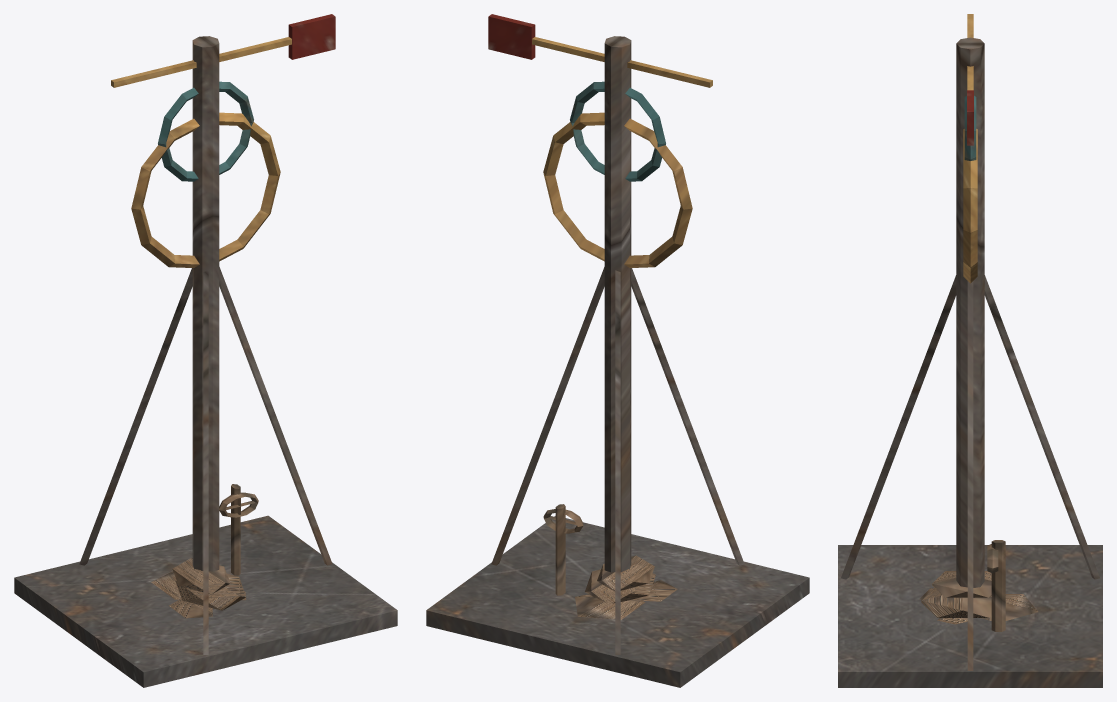
File: dust-devil-warning-mast.glb
3 views of the same model, side by side, from view 1: azimuth 30°, elevation 25°; view 2: azimuth 150°, elevation 25°; view 3: azimuth 270°, elevation 25° (orthographic). The views are drawn at different scales.
Parts seen in each view (by area): view 1: dust-devil-warning-mast; view 2: dust-devil-warning-mast; view 3: dust-devil-warning-mast.
Boxes of the visible parts, bbox=[...] form: dust-devil-warning-mast: bbox=[14, 14, 397, 687]; dust-devil-warning-mast: bbox=[426, 14, 809, 687]; dust-devil-warning-mast: bbox=[838, 14, 1102, 687].
Size of the model in its own units: 3.41 by 7.3 by 3.
Materials: 1 (1 with a texture image).
